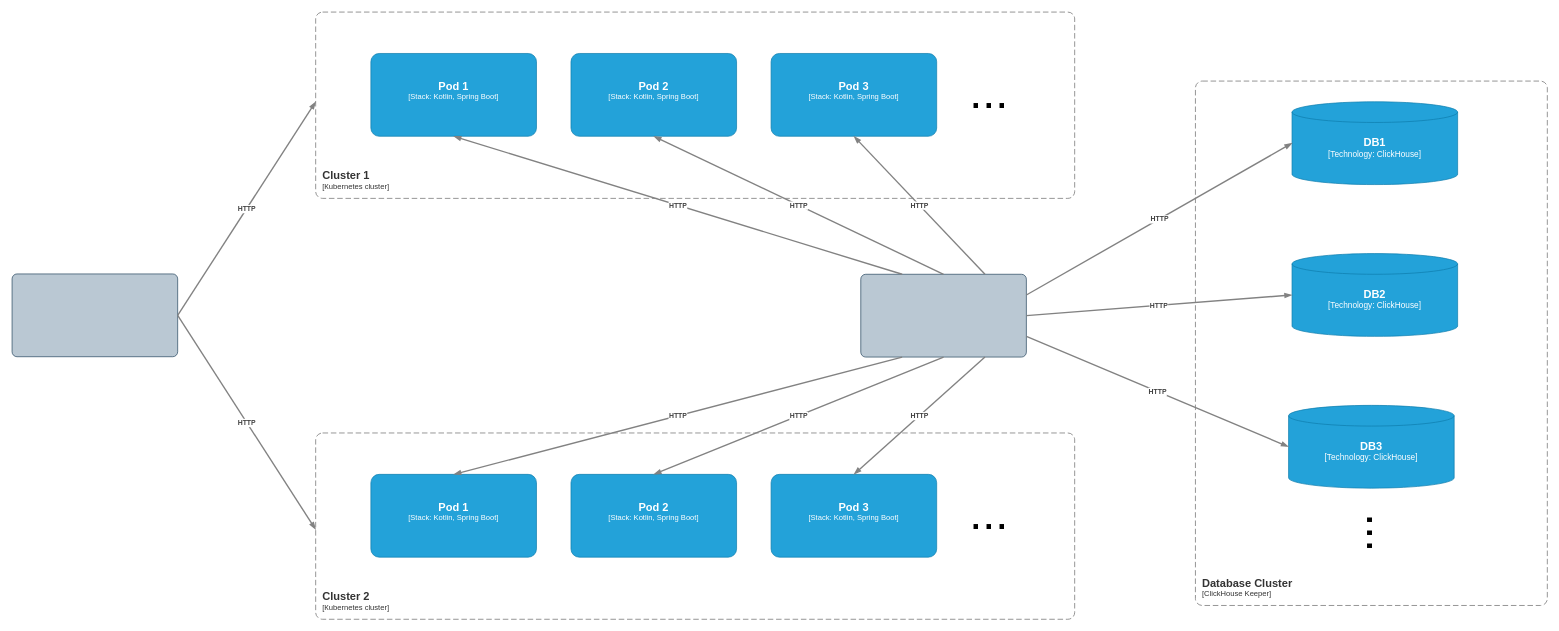
The diagram is 1559 pixels wide and 631 high, and some of its shapes have lost their labels. The shapes that lost their labels are listed below. From the top down, each one's centre as x and y in pixels, then its label:
At pixel 94 315: "API Gateway [Technology: Traefik]".
At pixel 943 315: "System Monitoring Service [Technology: Promrtheus, Graphana]".
